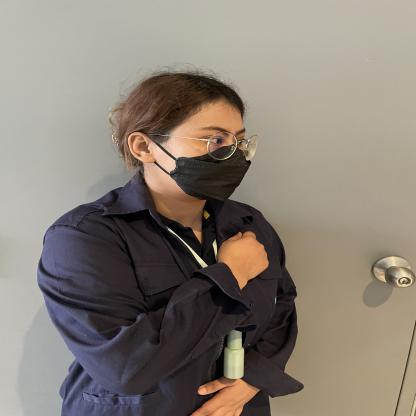Sadness: (123, 220, 292, 352)
